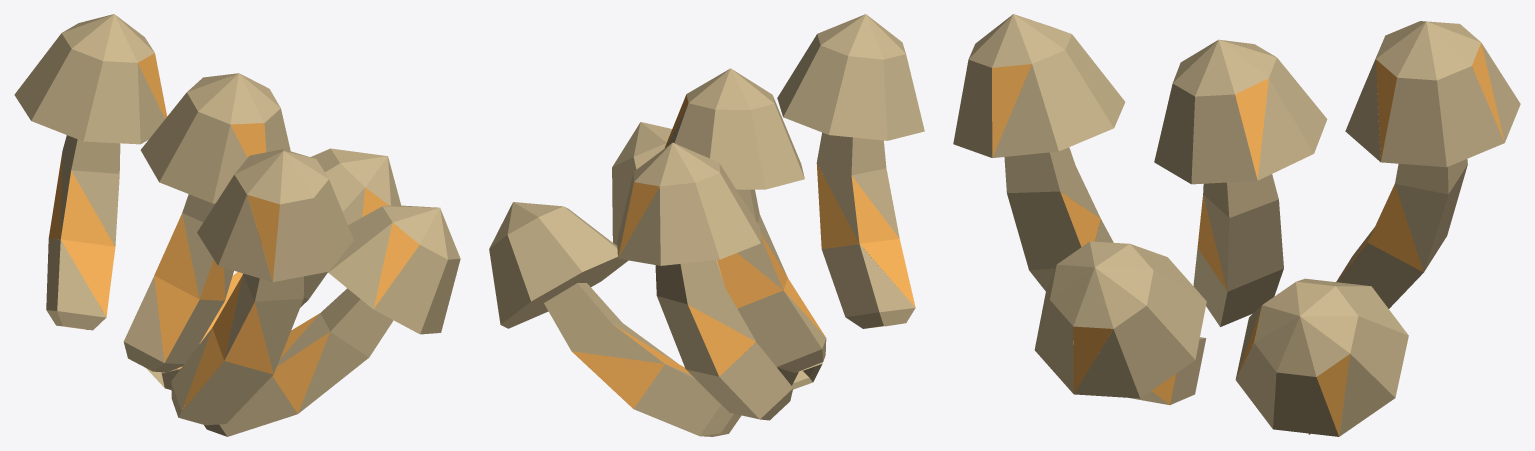
File: shroomHoney-compressed.glb
3 views of the same model, side by side, from view 1: azimuth 30°, elevation 25°; view 2: azimuth 150°, elevation 25°; view 3: azimuth 270°, elevation 25° (orthographic). The views are drawn at different scales.
Parts seen in each view (by area): view 1: shroomHoney; view 2: shroomHoney; view 3: shroomHoney.
Boxes of the visible parts, x1,y1,x2,y2 form: shroomHoney: (14,14,460,436); shroomHoney: (489,14,924,436); shroomHoney: (953,14,1520,436).
Bounding box in the file's own units: 0.4883 × 0.5 × 0.6637.
